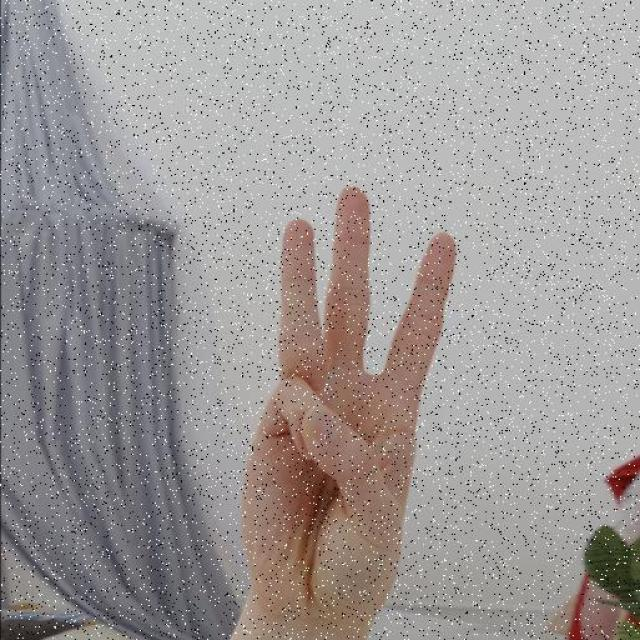W: (234, 183, 460, 636)
